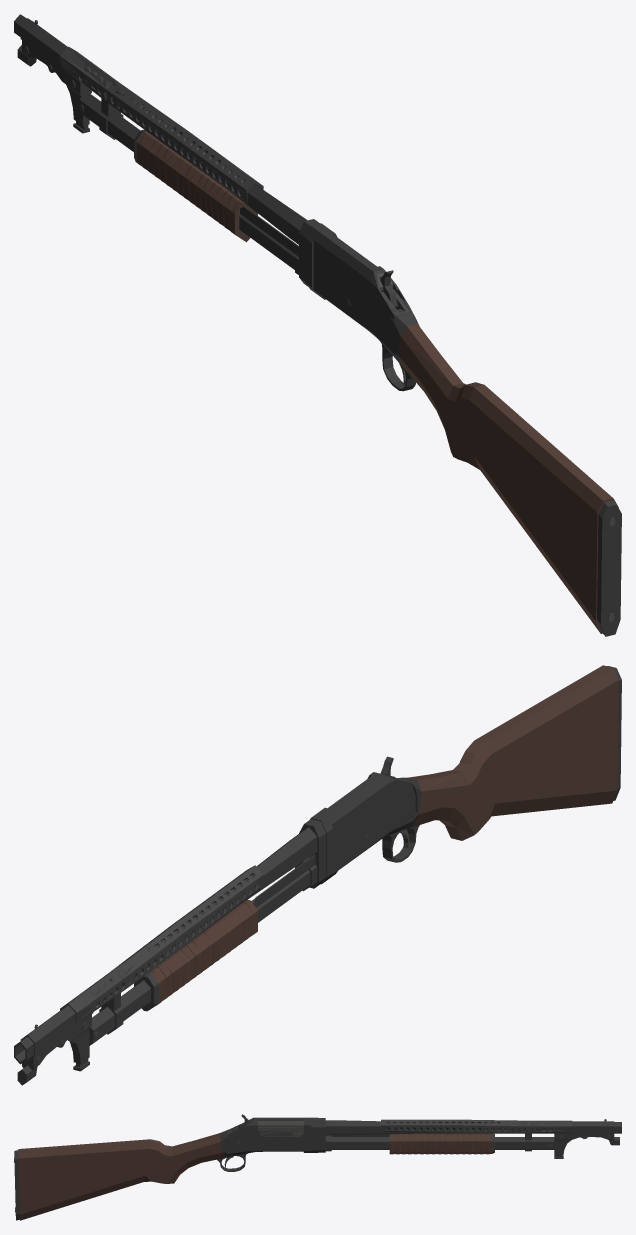
The model's file is escopeta.glb.
The picture shows the model from 3 angles, top to bottom: view 1: azimuth 30°, elevation 25°; view 2: azimuth 150°, elevation 25°; view 3: azimuth 270°, elevation 25°; orthographic projection. The views are drawn at different scales.
Parts seen in each view (by area): view 1: Object_22, Object_17, Object_18; view 2: Object_22, Object_17, Object_18; view 3: Object_22, Object_17, Object_18, Object_21.
Boxes of the visible parts, x1,y1,x2,y2 form: Object_22: (136,131,618,633); Object_17: (14,14,621,636); Object_18: (24,20,410,320); Object_22: (149,665,618,1003); Object_17: (14,666,621,1085); Object_18: (34,778,410,1064); Object_22: (18,1133,491,1220); Object_17: (14,1114,621,1220); Object_18: (228,1119,611,1149); Object_21: (14,1119,303,1212).
Bounding box in the file's own units: 0.0227 × 0.1894 × 1.
